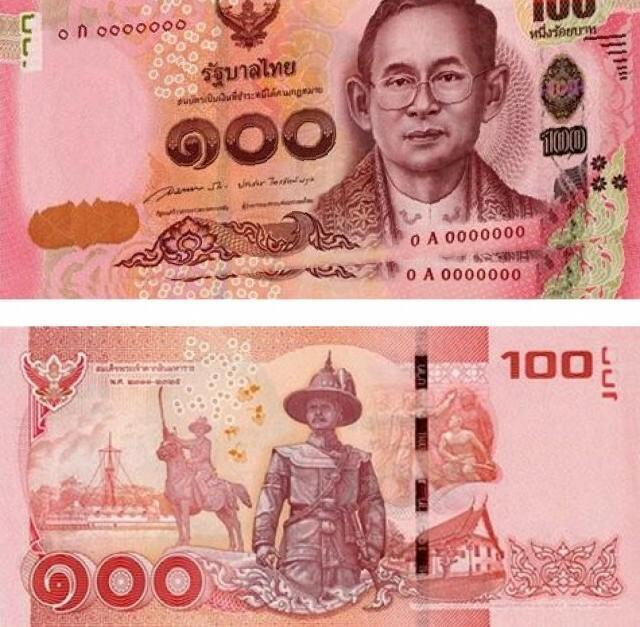100BahtTai: (0, 1, 640, 294)
